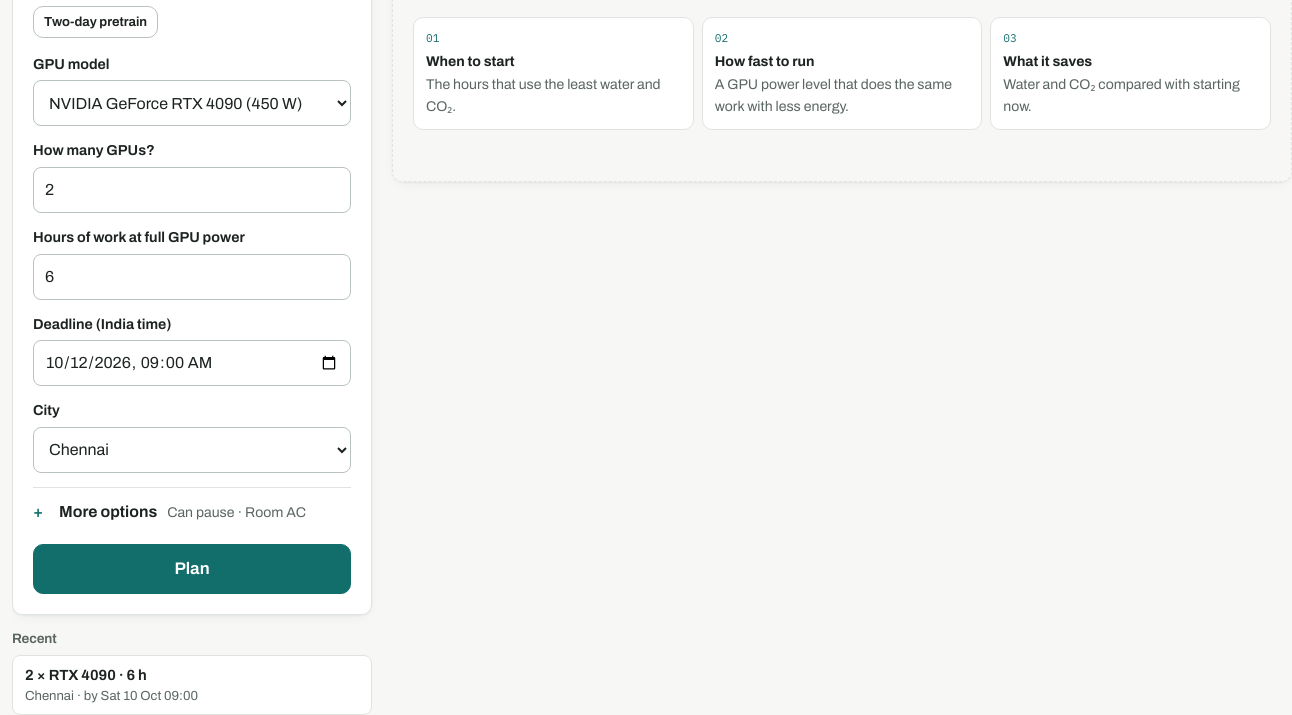
PlanPage while loading and when it fails › shows Planning while the plan is on its way and disables the button
(page scrolled)
Click the button "Plan".
click(192, 569)  # box [33, 544, 351, 594]
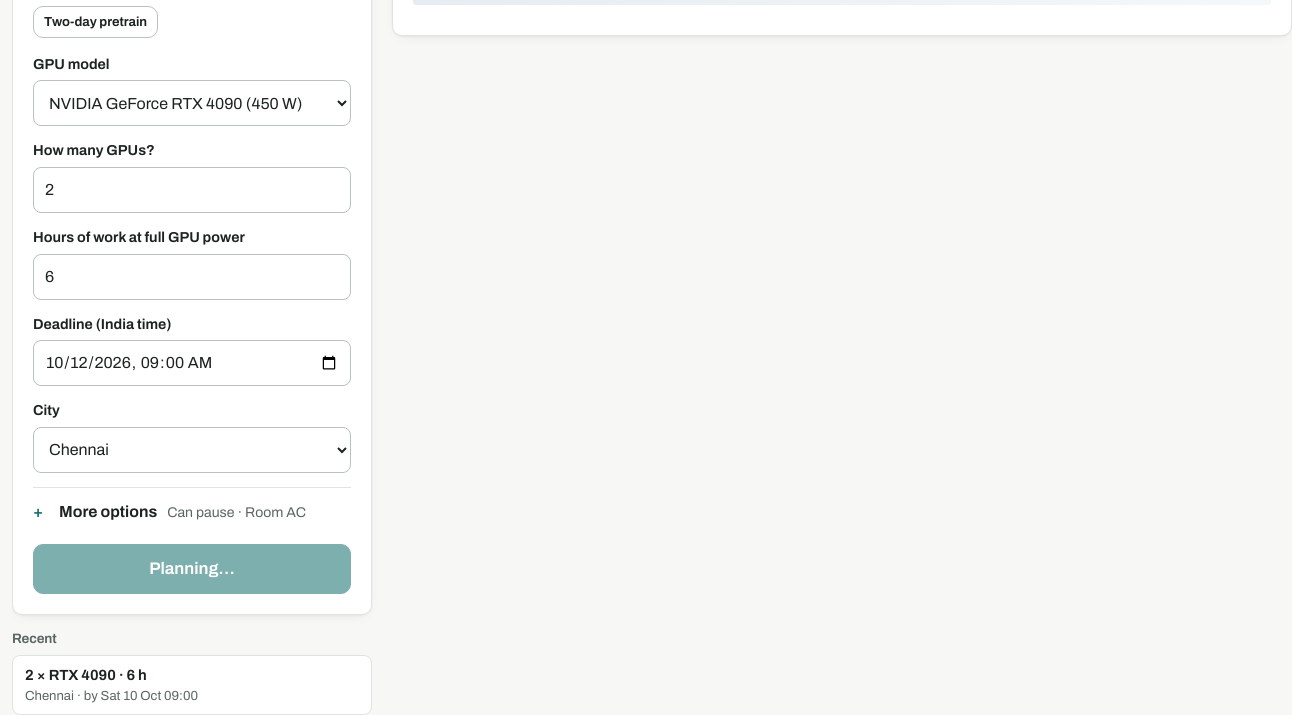
Check: the button "Planning…" is disabled, box [33, 544, 351, 594]
